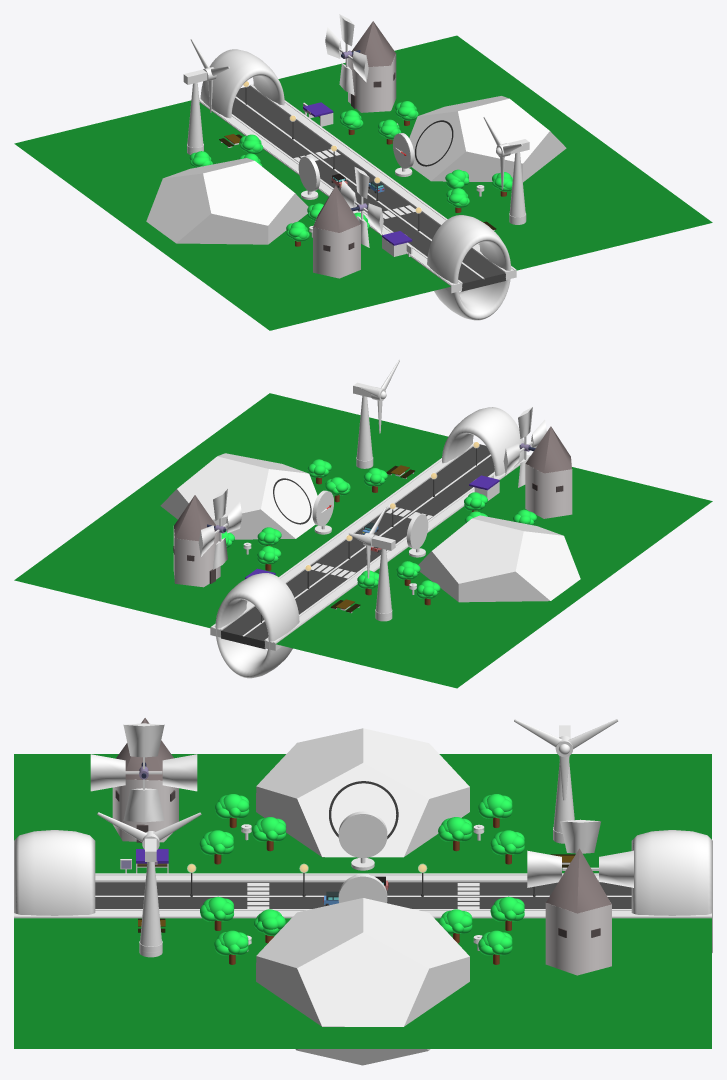
3 renders of one model, top to bottom at view 1: azimuth 30°, elevation 25°; view 2: azimuth 150°, elevation 25°; view 3: azimuth 270°, elevation 25°, orthographic. The views are drawn at different scales.
Visible parts, largest first — view 1: Plane, Dodecahedron (×2), Cylinder (×7), Torus (×2), Route, Trottoir G (×3), Trottoir D, Ligne route; view 2: Plane, Dodecahedron (×2), Cylinder (×7), Torus (×2), Route, Trottoir G (×2), Trottoir D; view 3: Plane, Dodecahedron (×2), Cylinder (×14), Torus (×2), Route, Trottoir G (×4), Trottoir D, Wind speed, Ligne route.
Part boxes in pixels (box(x1,y1,x2,y2)): Plane: box(14, 35, 712, 330); Dodecahedron (×2): box(146, 96, 566, 244); Cylinder (×7): box(187, 21, 525, 278); Torus (×2): box(200, 49, 510, 320); Route: box(232, 86, 505, 291); Trottoir G (×3): box(199, 84, 516, 293); Trottoir D: box(252, 84, 516, 279); Ligne route: box(235, 96, 484, 279); Plane: box(14, 393, 712, 688); Dodecahedron (×2): box(160, 453, 580, 602); Cylinder (×7): box(173, 396, 572, 617); Torus (×2): box(215, 407, 524, 678); Route: box(221, 444, 494, 648); Trottoir G (×2): box(219, 443, 527, 650); Trottoir D: box(210, 442, 474, 637); Plane: box(14, 754, 711, 1048); Dodecahedron (×2): box(256, 728, 469, 1065); Cylinder (×14): box(90, 718, 633, 975); Torus (×2): box(14, 830, 712, 952); Route: box(95, 882, 631, 908); Trottoir G (×4): box(14, 873, 711, 916); Trottoir D: box(14, 911, 711, 918); Wind speed: box(339, 815, 386, 856); Ligne route: box(95, 895, 631, 896).
Bounding box in the file's own units: 60 × 18.66 × 60.09.
